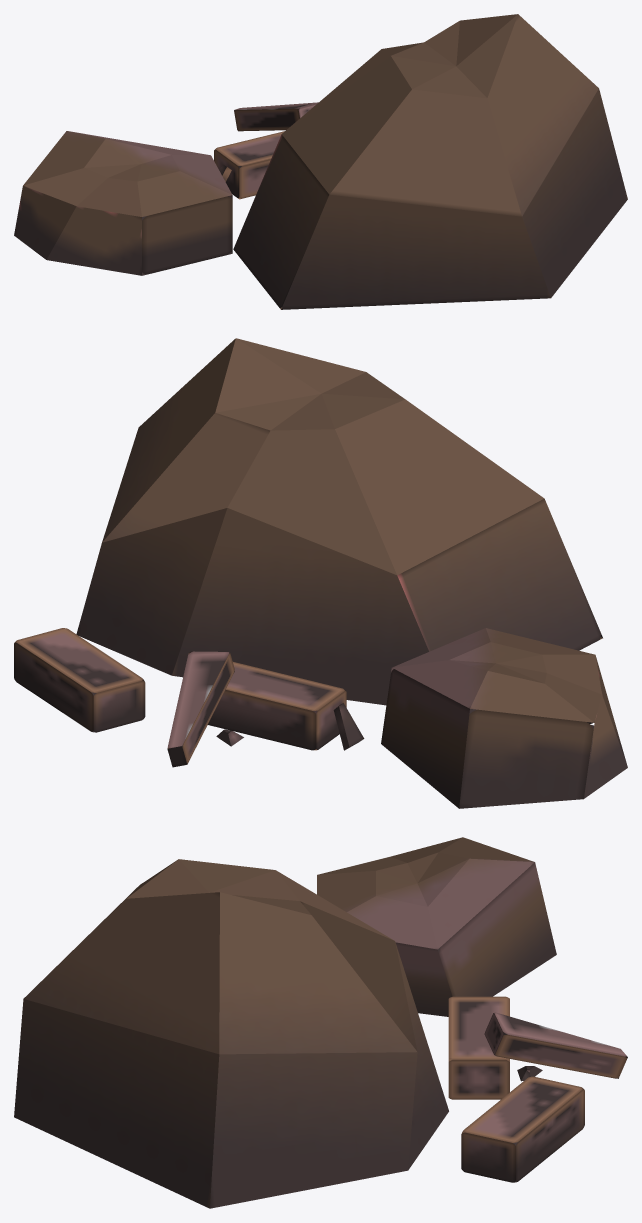
Rendered from bricks.fbx.
3 renders of one model, top to bottom at view 1: azimuth 30°, elevation 25°; view 2: azimuth 150°, elevation 25°; view 3: azimuth 270°, elevation 25°, orthographic. The views are drawn at different scales.
Parts seen in each view (by area): view 1: cylinder_1, cylinder, cuboid, cuboid_1; view 2: cylinder_1, cylinder, cuboid_4, cuboid, cuboid_1, cuboid_3; view 3: cylinder_1, cylinder, cuboid_4, cuboid, cuboid_1.
Boxes of the visible parts, x1,y1,x2,y2 form: cylinder_1: (233, 14, 627, 309); cylinder: (14, 131, 232, 275); cuboid: (214, 131, 284, 199); cuboid_1: (234, 102, 318, 131); cylinder_1: (76, 338, 602, 705); cylinder: (381, 628, 627, 808); cuboid_4: (14, 628, 145, 732); cuboid: (208, 662, 346, 750); cuboid_1: (167, 651, 234, 767); cuboid_3: (333, 703, 364, 750); cylinder_1: (14, 859, 448, 1208); cylinder: (317, 837, 556, 1016); cuboid_4: (461, 1076, 584, 1182); cuboid: (448, 996, 509, 1099); cuboid_1: (484, 1012, 627, 1078).
Size of the model in its own units: 50.46 by 20.72 by 43.72.
1 material, 1 textured.
